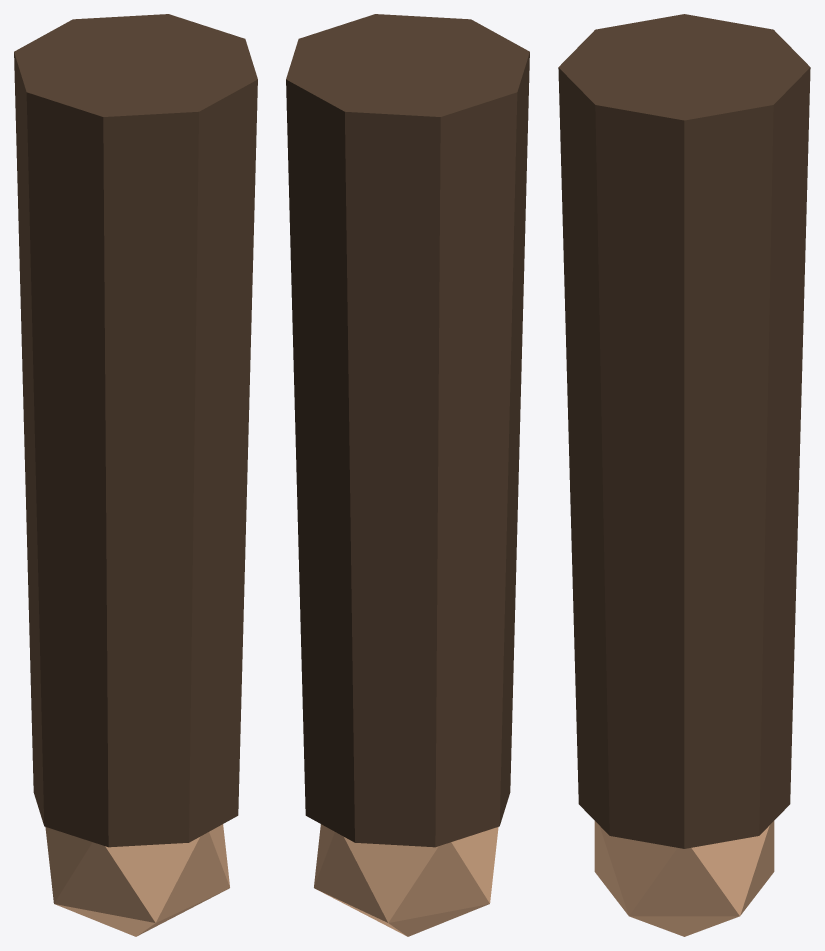
Rendered from insan_e0k_kol.glb.
3 views of the same model, side by side, from view 1: azimuth 30°, elevation 25°; view 2: azimuth 150°, elevation 25°; view 3: azimuth 270°, elevation 25° (orthographic).
Parts seen in each view (by area): view 1: Cone; view 2: Cone; view 3: Cone.
Boxes of the visible parts, box(x1,y1,x2,y2) form: Cone: box(14, 14, 257, 936); Cone: box(286, 14, 529, 936); Cone: box(558, 14, 810, 936).
Size of the model in its own units: 0.031 by 0.118 by 0.031.
